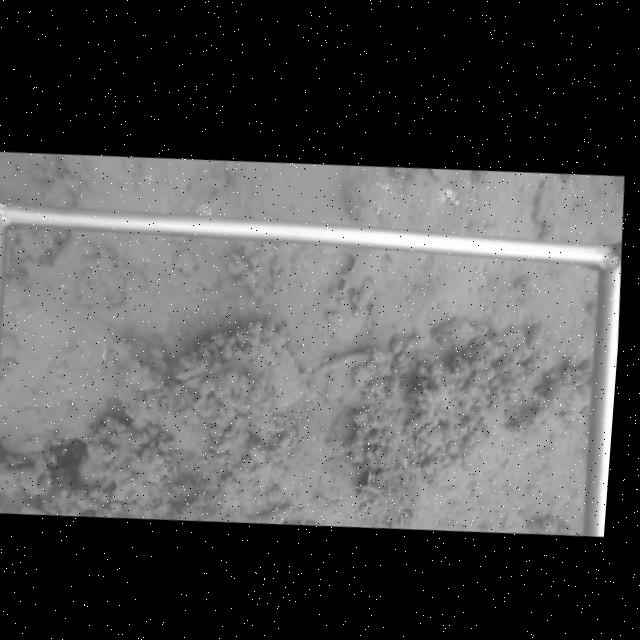Oyster-Indeterminate: (175, 329, 305, 411), (340, 167, 392, 225), (317, 350, 372, 403)
